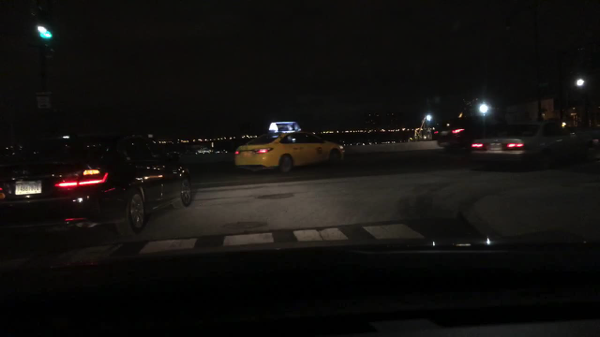car: (0, 132, 192, 237), (233, 122, 345, 174), (468, 120, 581, 169), (432, 116, 504, 150)
traffic light: (40, 19, 52, 41)
traffic sign: (37, 99, 53, 110), (34, 89, 53, 97), (539, 83, 550, 88)
